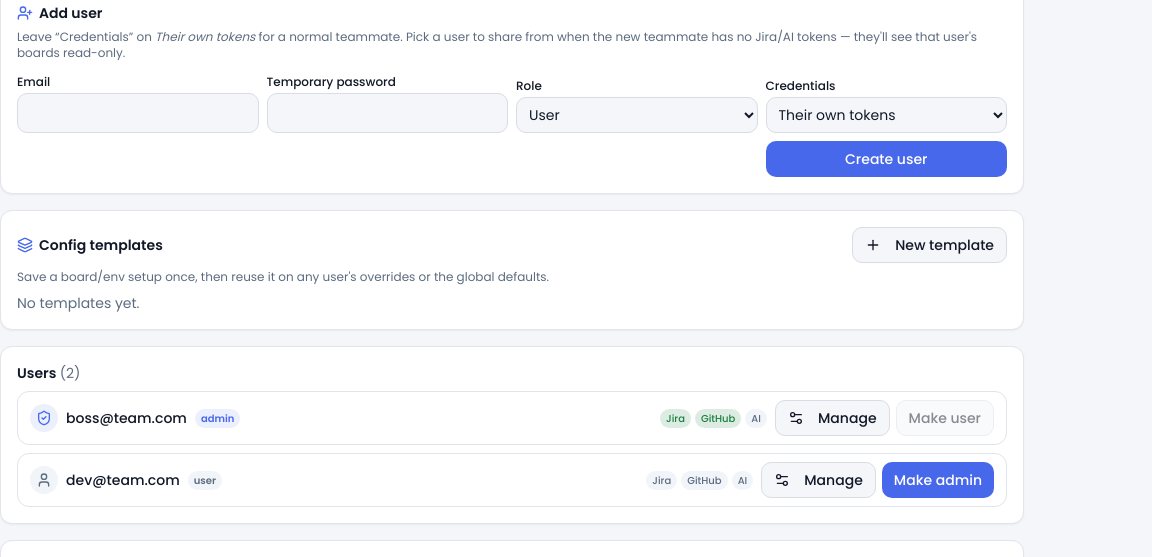
Scenario: Admin user setup — combined save + unsaved guard (v1.52, ADR-063) › warns before discarding unsaved edits when closing the panel
Expected: the text "dev@team.com" is shown, left=66, top=470, right=180, bottom=490
Click the button "Manage" in the row of "dev@team.com".
click(819, 480)  # box left=761, top=462, right=876, bottom=498
(page scrolled)
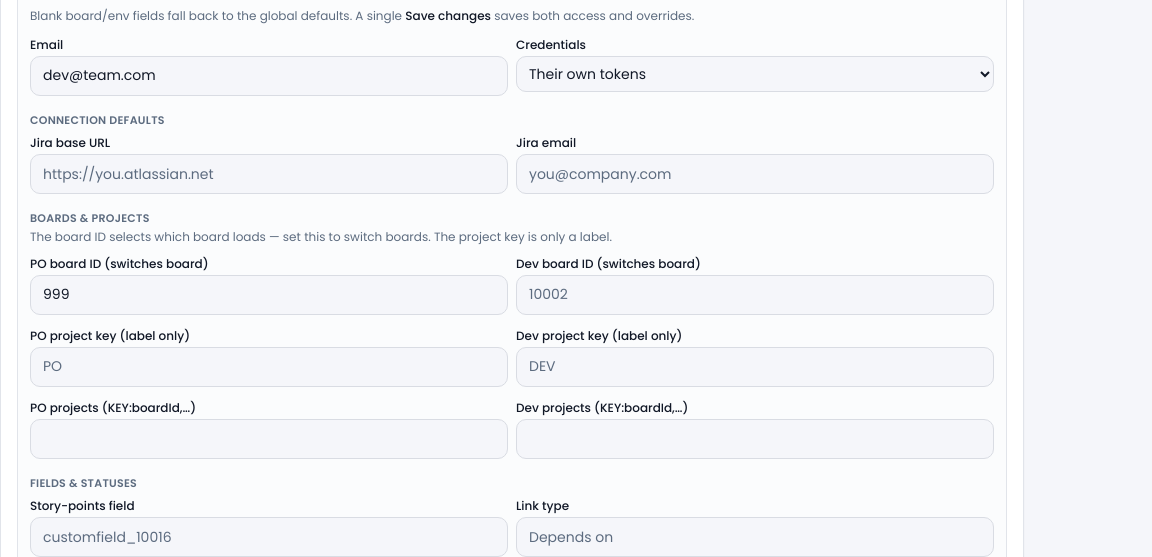
Type "1038" into the field with id "u-u2-JIRA_DEV_BOARD_ID".
click(755, 294); type("1038")  # box left=516, top=274, right=994, bottom=314
(page scrolled)
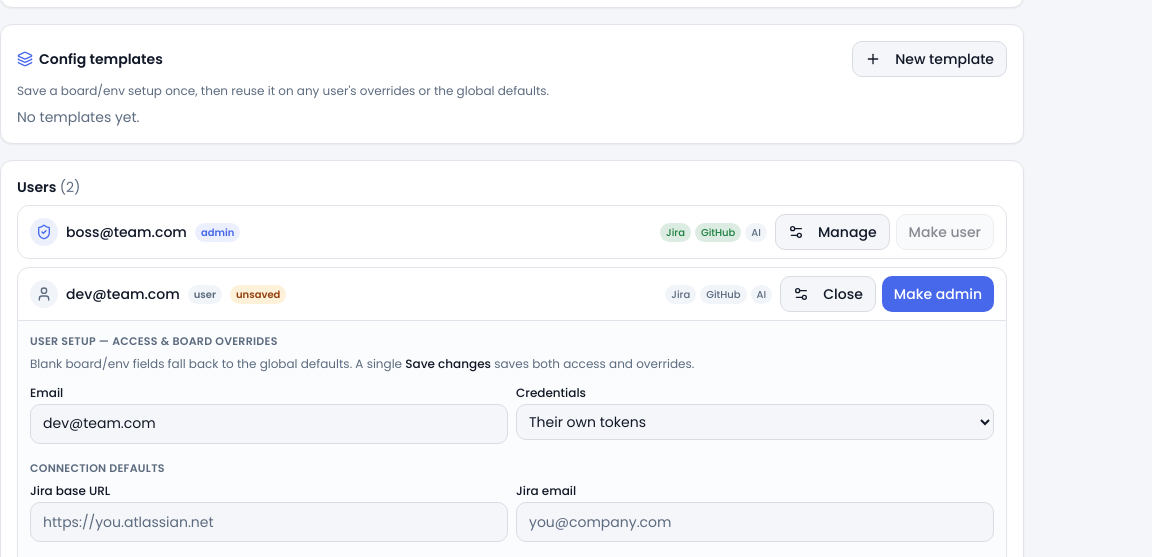
Expected: the text "unsaved" is shown, left=230, top=284, right=286, bottom=304
Click the button "Close".
click(828, 294)  # box left=780, top=276, right=876, bottom=312
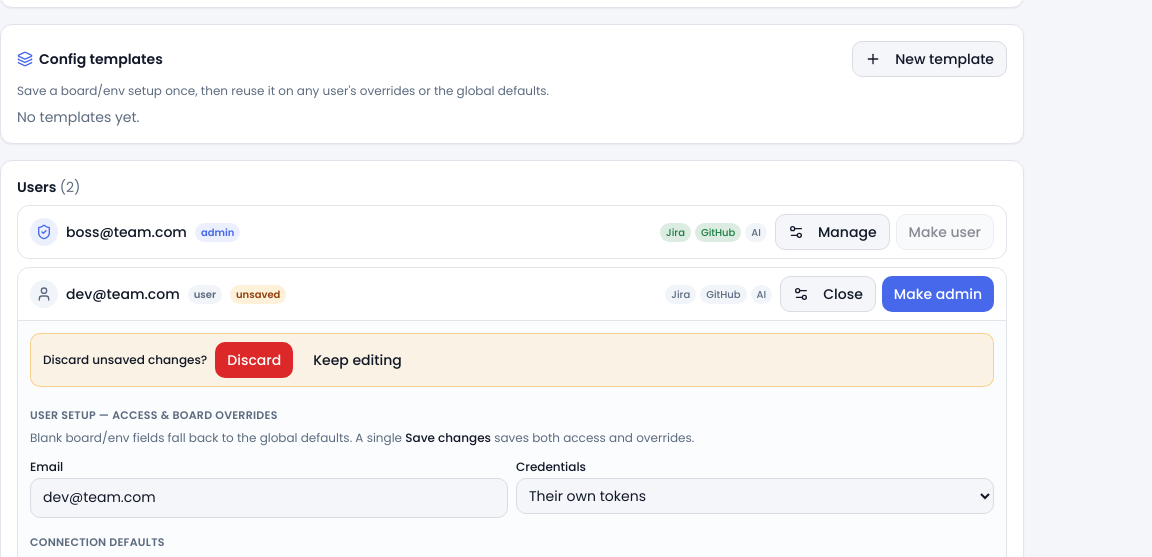
Expected: the text "Discard unsaved changes?" is shown, left=43, top=352, right=207, bottom=368
Click the button "Keep editing".
click(358, 360)  # box left=301, top=342, right=414, bottom=378
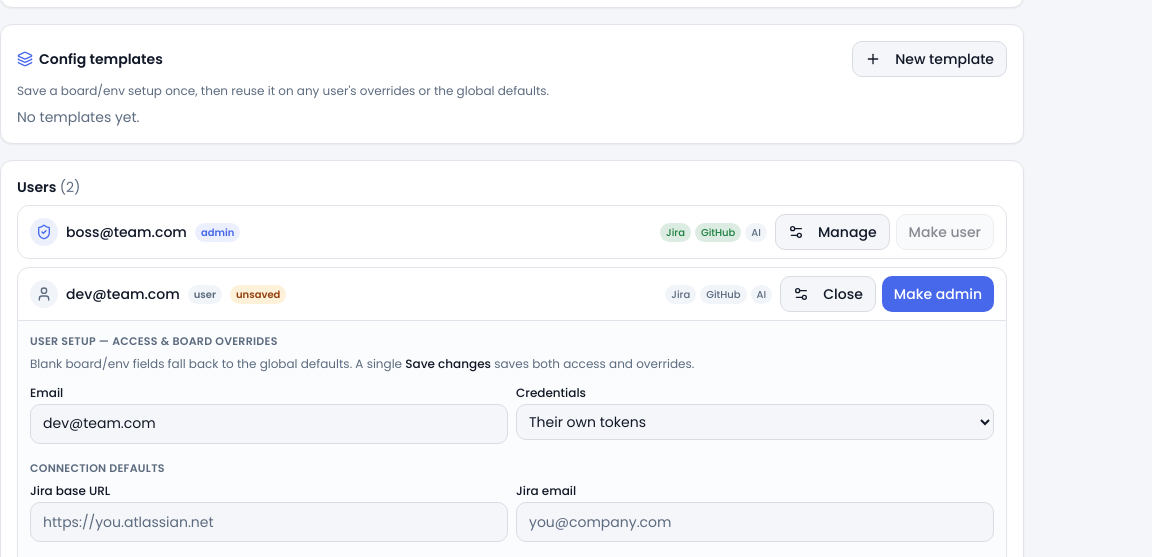
Expected: the text "Discard unsaved changes" is gone
Click the button "Close".
click(828, 294)  # box left=780, top=276, right=876, bottom=312
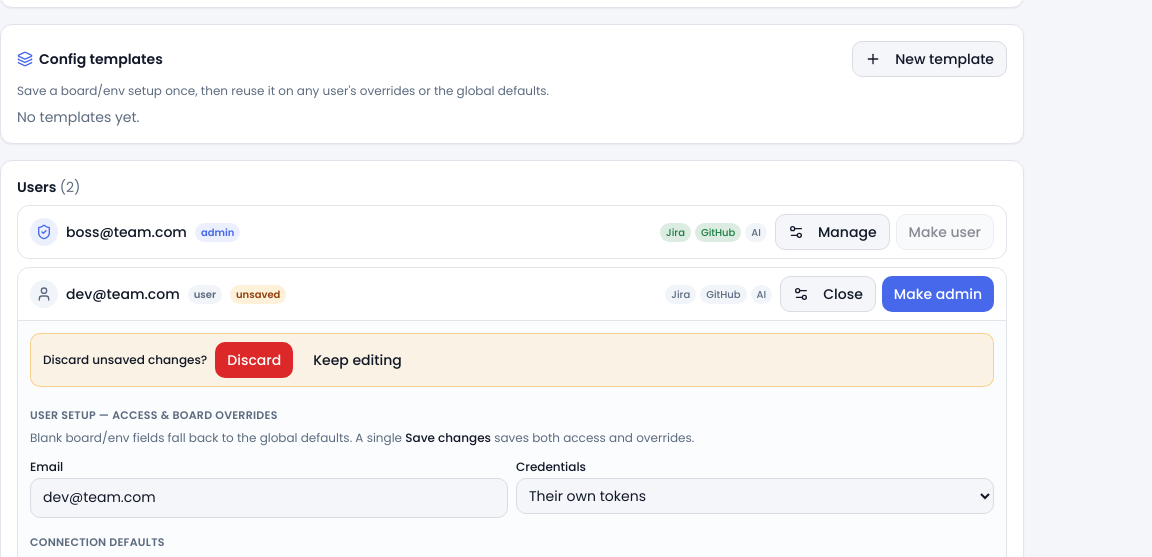
Click the button "Discard".
click(254, 360)  # box left=215, top=342, right=293, bottom=378
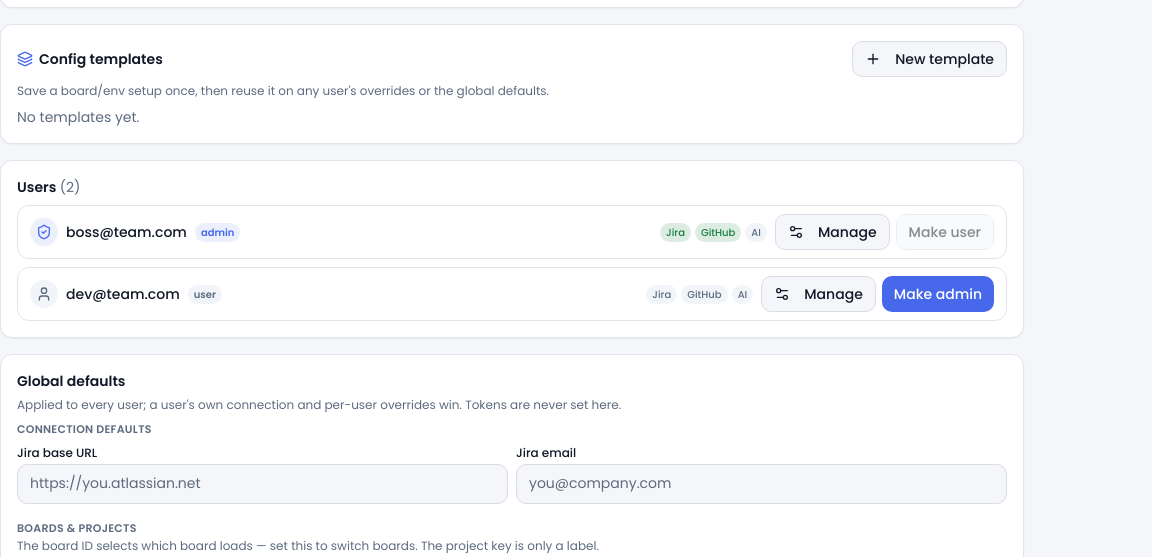
Expected: the text "Save changes" is gone
